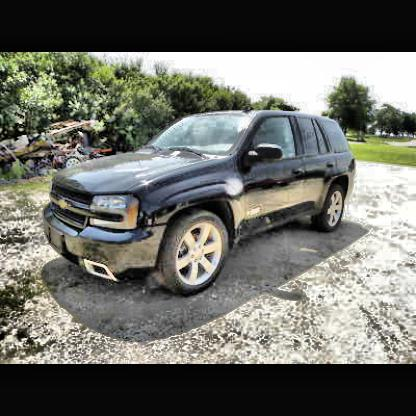Chevrolet TrailBlazer SS 2009: (44, 107, 361, 298)
